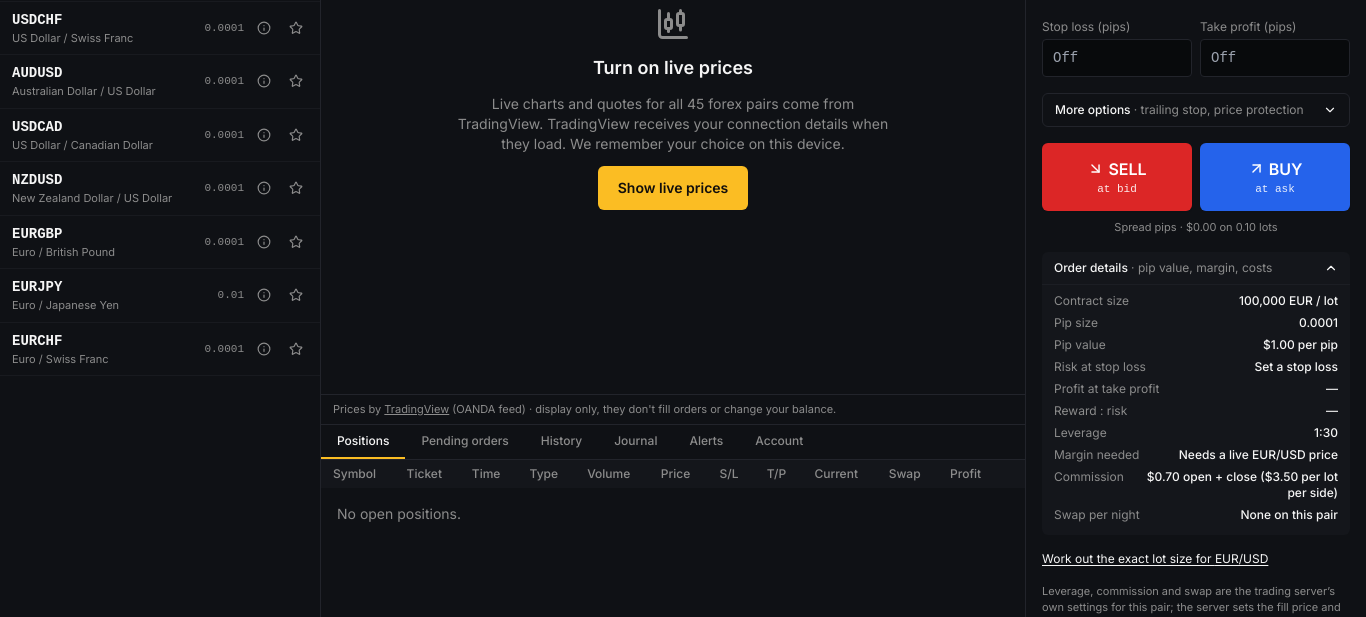
Scenario: History tab statement › shows totals and a download in the terminal's History tab
This screenshot has width=1366, height=617.
Later steps or results of the test are not shown.
(page scrolled)
Click the tab "History" at point(562, 442), box [525, 424, 598, 458]
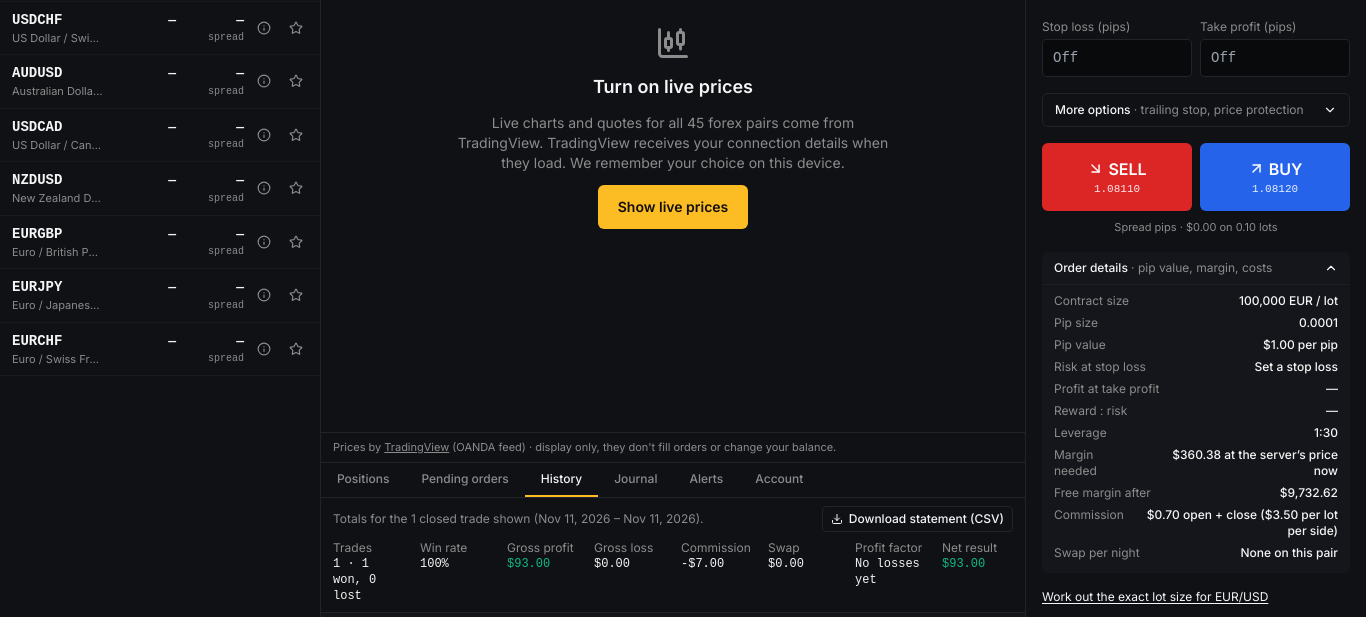
Now the element with test id "history-statement" shows "Totals for the 1 closed trade shown", box [321, 498, 1025, 612]
Now the element with test id "history-statement" shows "1 · 1 won, 0 lost", box [333, 556, 376, 602]
Now the element with test id "history-statement" shows "No losses yet", box [855, 556, 920, 586]
